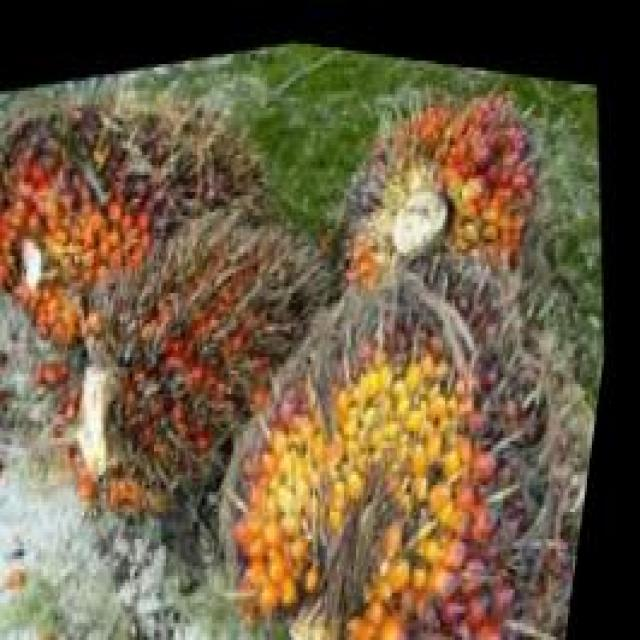Ripefruit: (207, 205, 621, 640), (0, 34, 291, 360)
